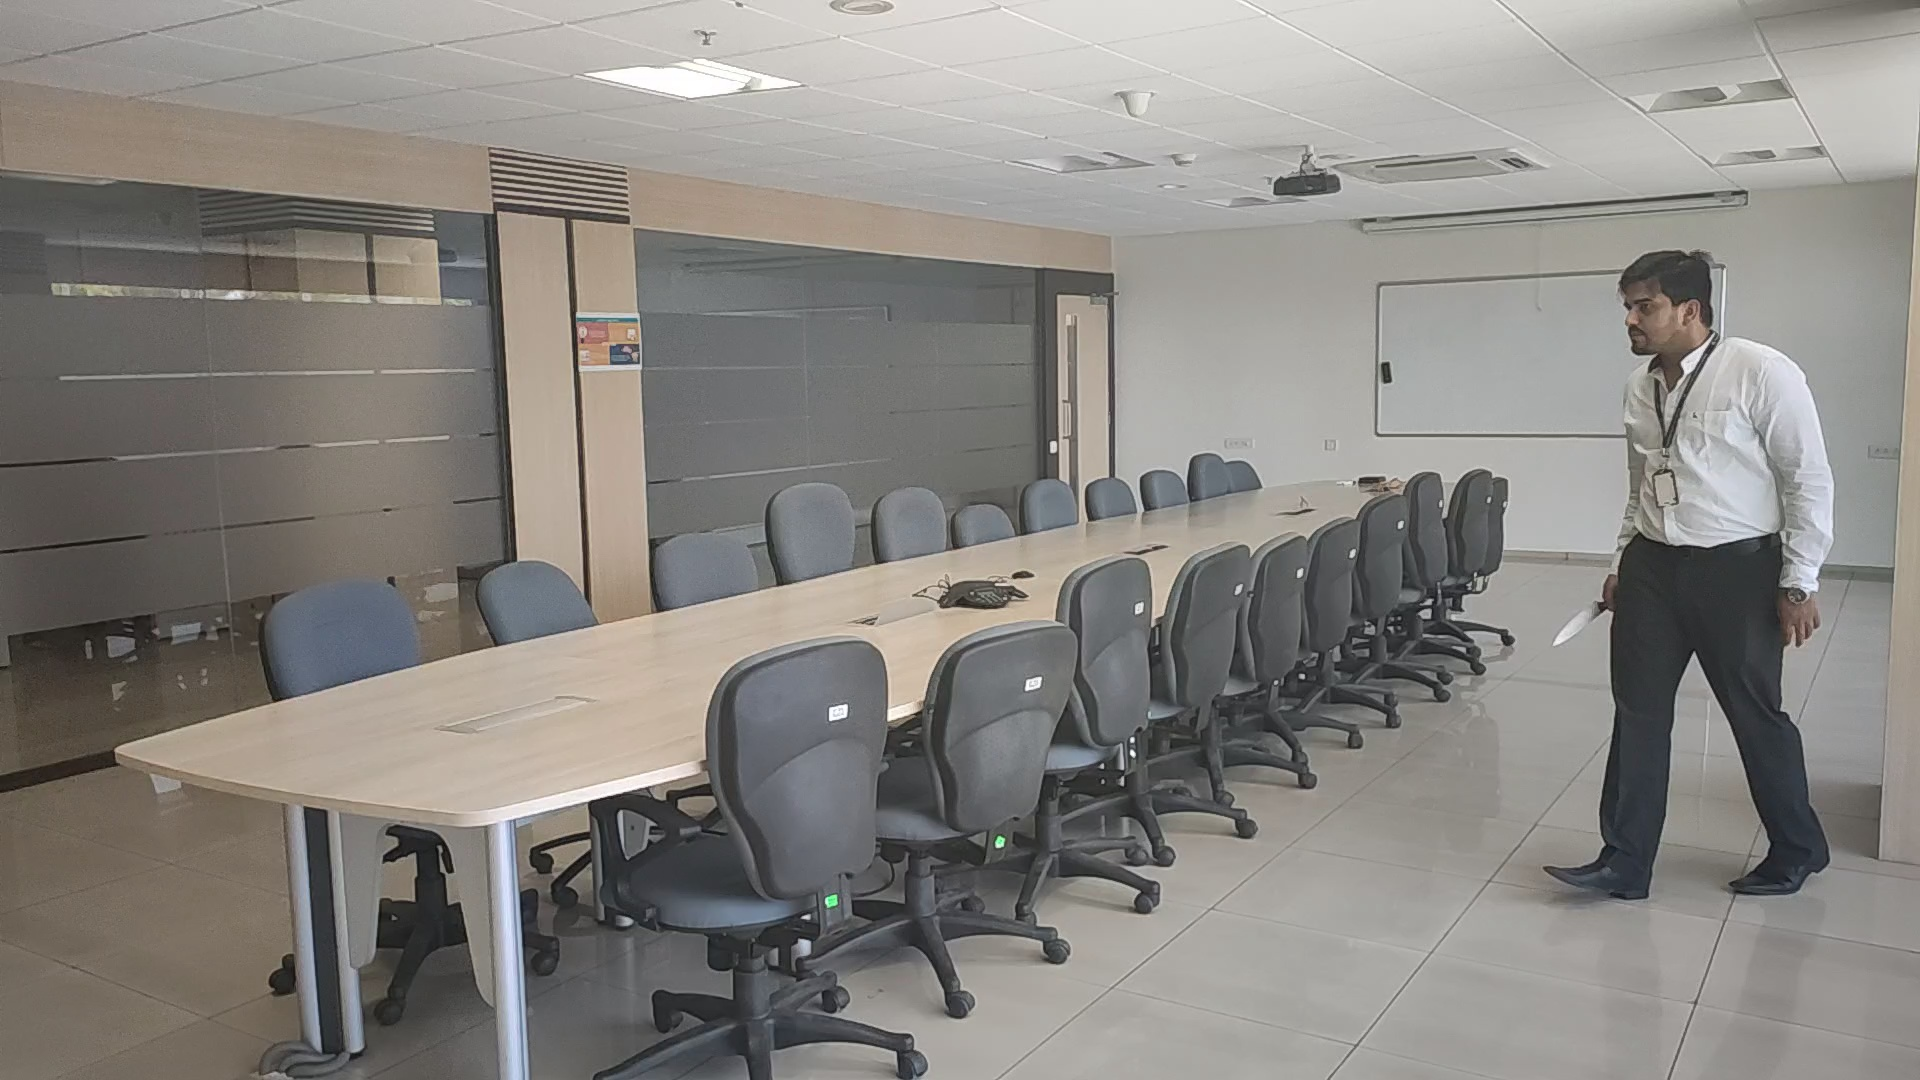knife: (1552, 597, 1604, 647)
